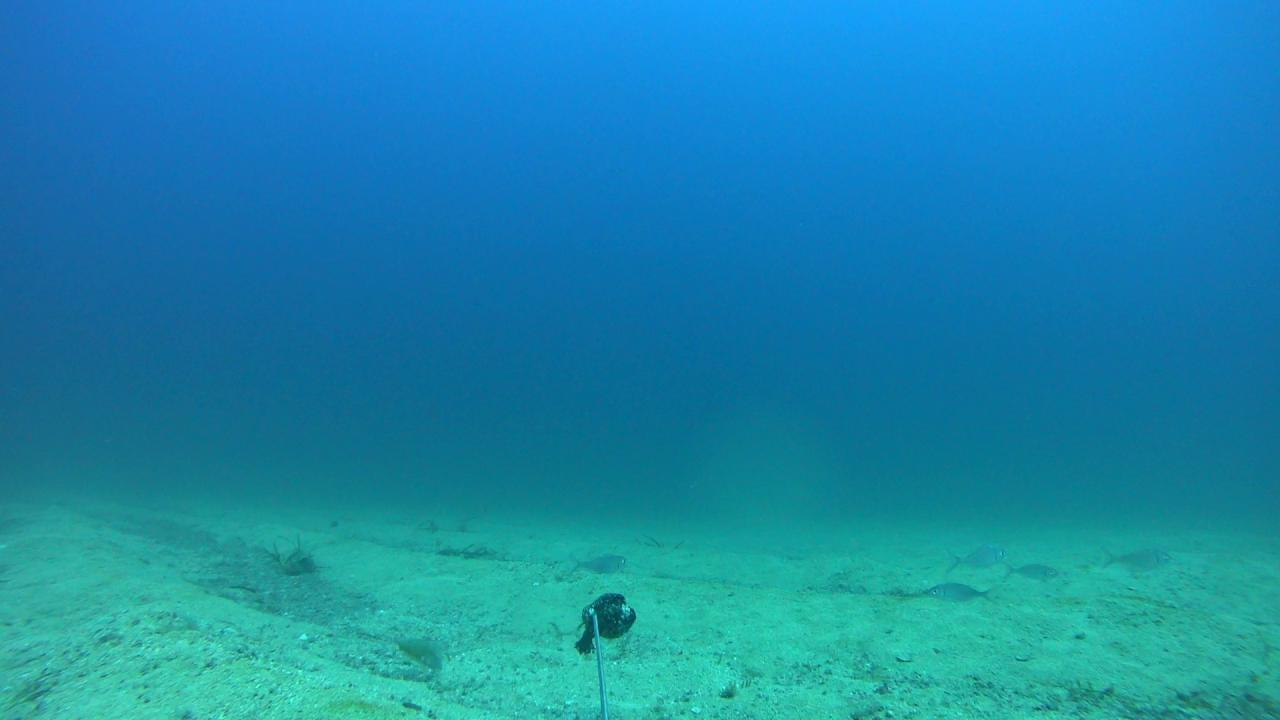pagellus: (1100, 546, 1173, 573), (945, 542, 1008, 572), (921, 582, 1001, 602), (1002, 561, 1060, 583), (570, 553, 624, 576)
raor: (386, 632, 442, 674)
